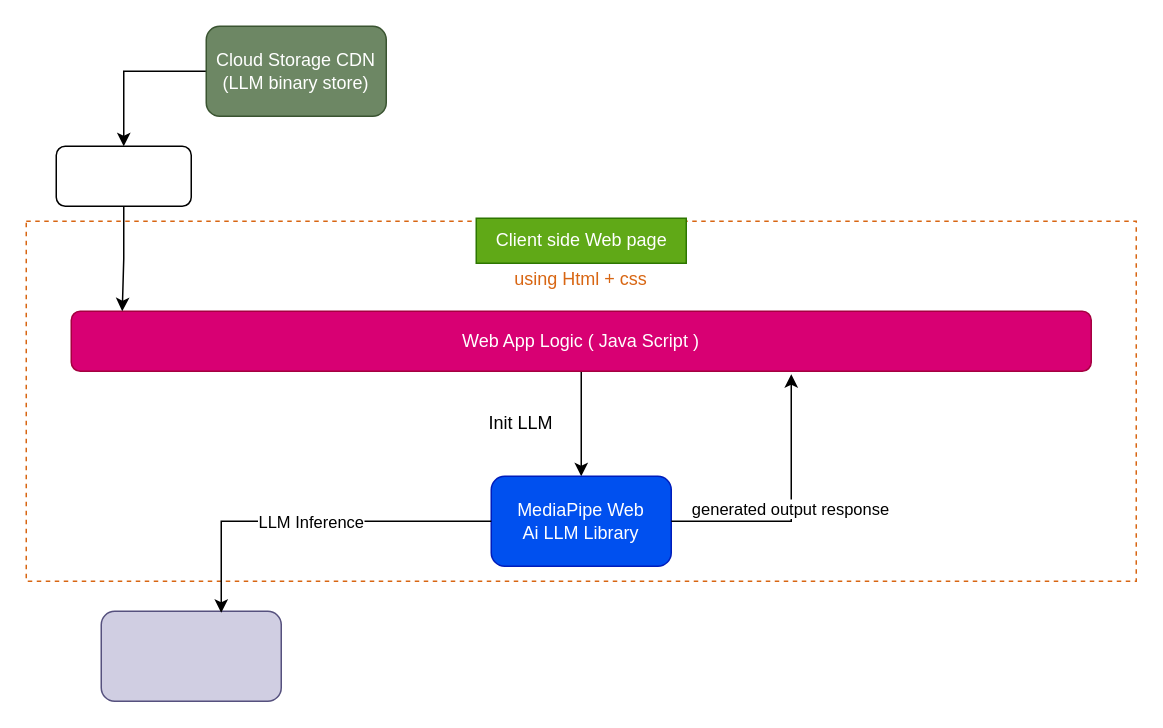
The diagram is 1163 pixels wide and 728 high, and some of its shapes have lost their labels. Here are the shapes that lost their labels. From the top down, the centre of each, then its label:
At (123,175): "AI LLM Model download".
At (190,655): "Model running on local System".
